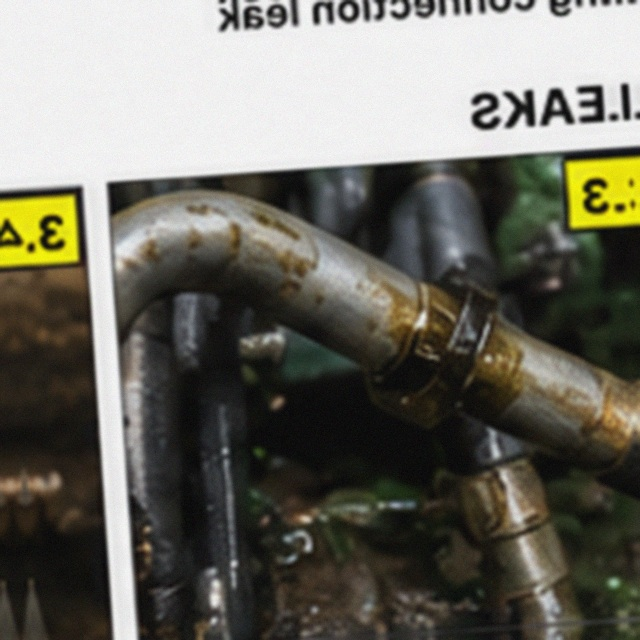hydraulic_oil_leak: (226, 232, 438, 444)
